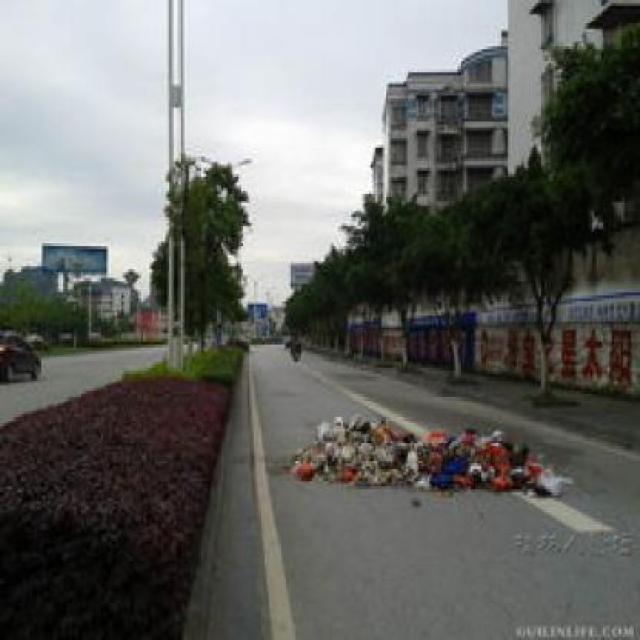garbage: (269, 406, 566, 502)
